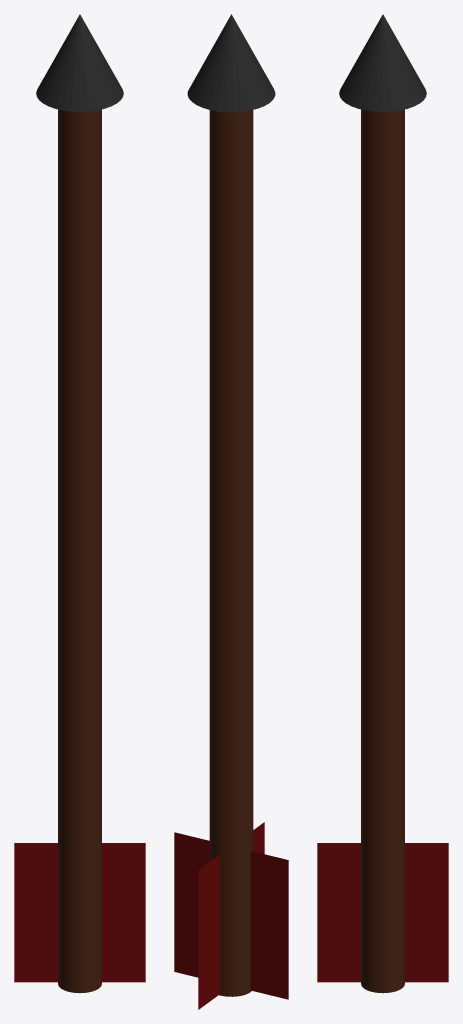
Rendered from arrow2.obj.
3 views of the same model, side by side, from view 1: azimuth 90°, elevation 25°; view 2: azimuth 150°, elevation 25°; view 3: azimuth 270°, elevation 25° (orthographic).
Visible parts, largest first — view 1: Cylinder, Plane.001, Cone; view 2: Cylinder, Plane, Cone, Plane.001; view 3: Cylinder, Plane.001, Cone.
Part boxes in pixels (bbox=[...]): Cylinder: bbox=[58, 109, 101, 993]; Plane.001: bbox=[14, 843, 145, 982]; Cone: bbox=[36, 14, 123, 111]; Cylinder: bbox=[209, 110, 253, 996]; Plane: bbox=[174, 832, 288, 999]; Cone: bbox=[187, 14, 275, 112]; Plane.001: bbox=[198, 822, 264, 1009]; Cylinder: bbox=[361, 109, 404, 993]; Plane.001: bbox=[317, 843, 448, 982]; Cone: bbox=[339, 14, 426, 111].
Bounding box in the file's own units: 1.2 × 9.76 × 1.2.
